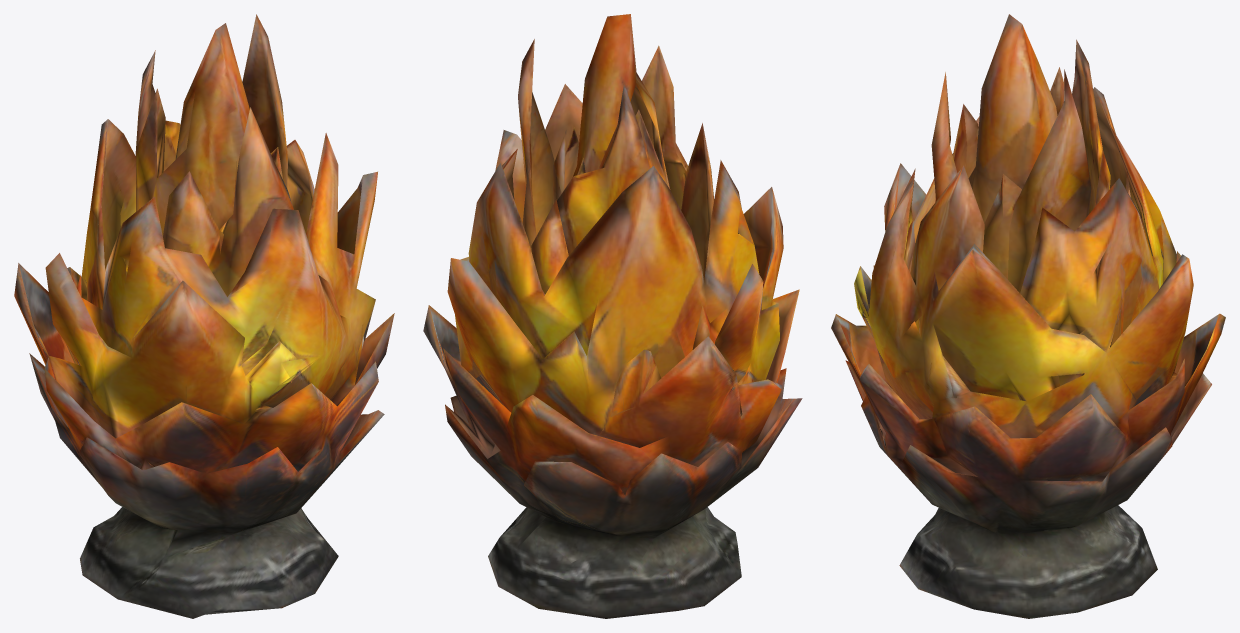
File: testFire.glb
The picture shows the model from 3 angles, left to right: view 1: azimuth 30°, elevation 25°; view 2: azimuth 150°, elevation 25°; view 3: azimuth 270°, elevation 25°; orthographic projection.
Parts seen in each view (by area): view 1: Mesh_0; view 2: Mesh_0; view 3: Mesh_0.
Boxes of the visible parts, <box> form: Mesh_0: <box>14,14,394,618</box>; Mesh_0: <box>423,14,802,618</box>; Mesh_0: <box>831,14,1225,618</box>.
Size of the model in its own units: 0.6188 by 1 by 0.6488.
1 material, 1 textured.
